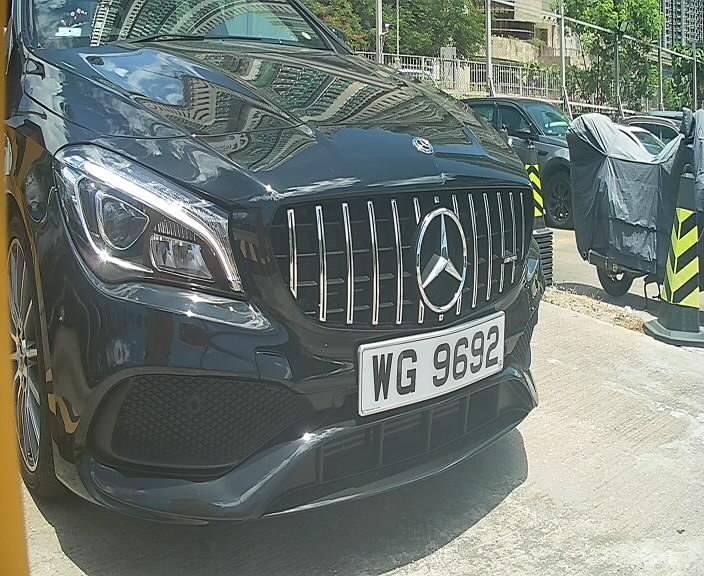License Plate: (356, 312, 503, 415)
